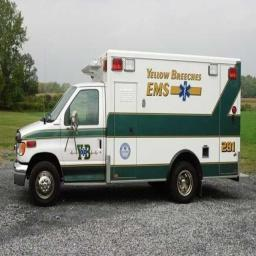ambulance: (14, 50, 240, 204)
